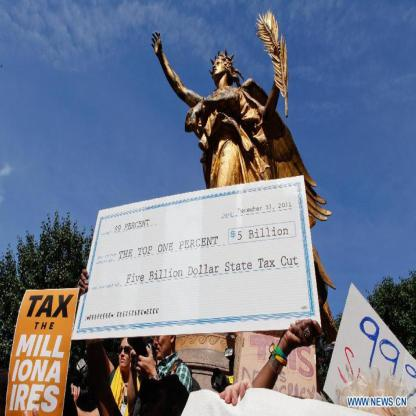face: (155, 329, 171, 359), (119, 338, 133, 368), (212, 58, 224, 78)
